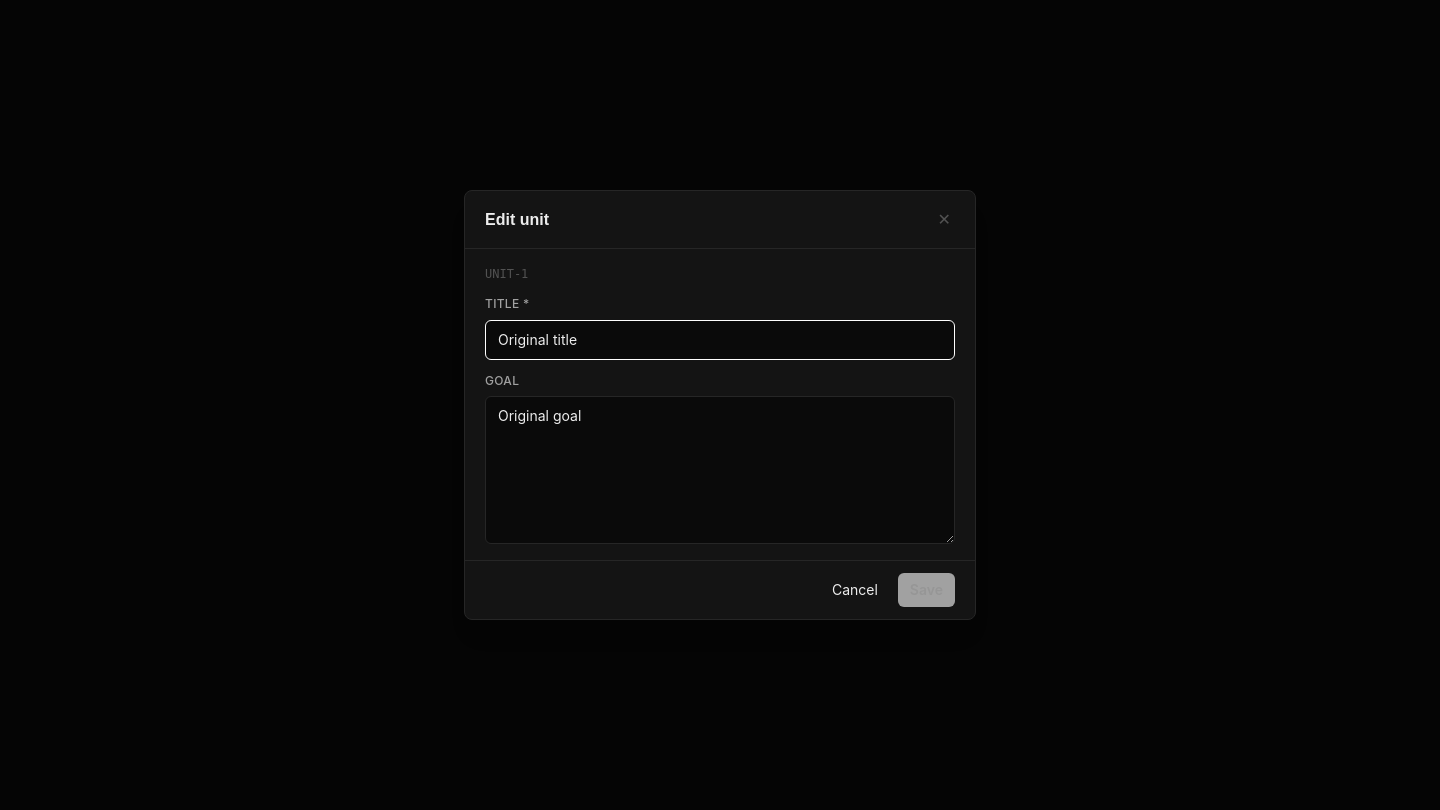
Test: UnitEditModal › surfaces daemon errors
Replace the text in the field with test id "unit-edit-title" with "x": x=720, y=340 [485,320,955,360]
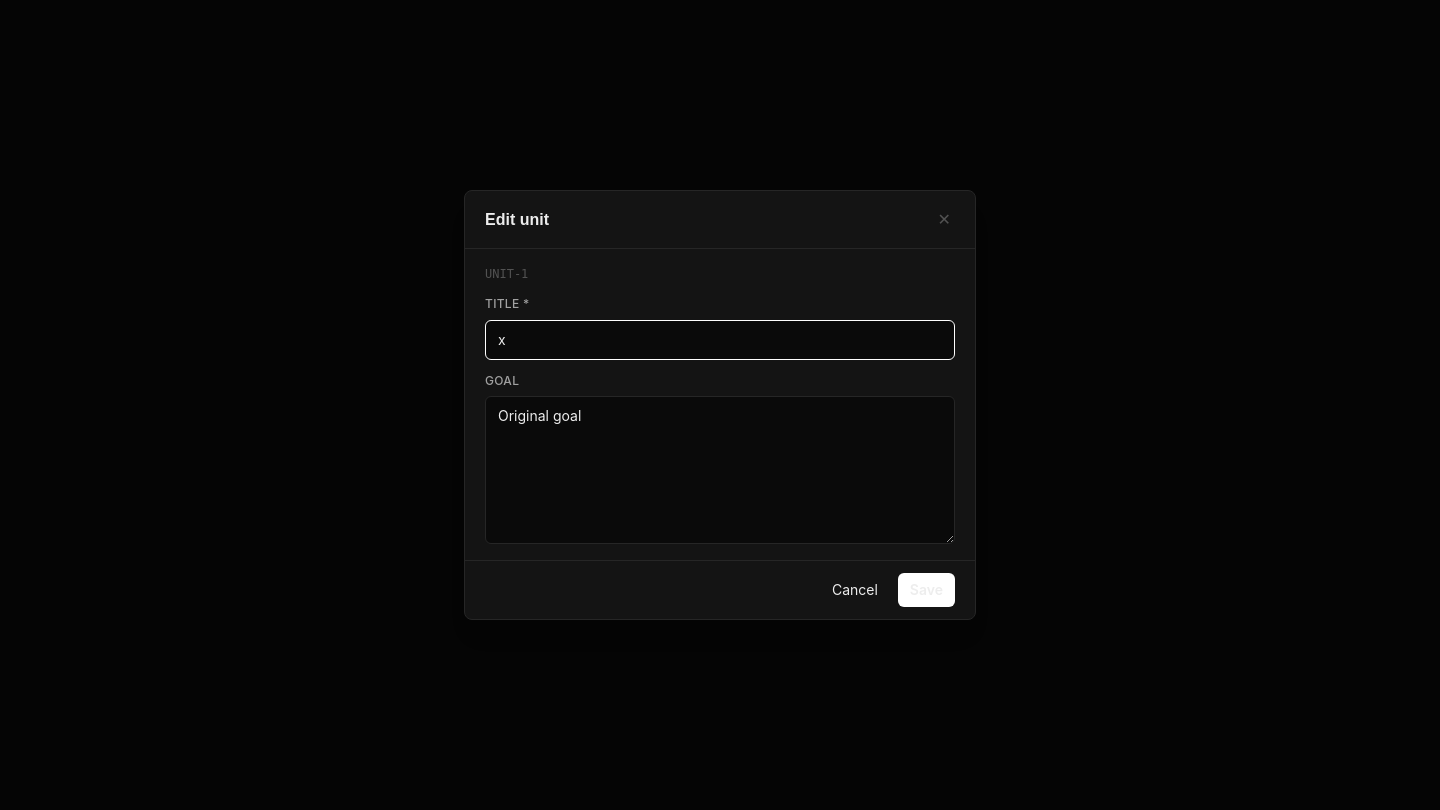
Click the button with test id "unit-edit-submit": x=926, y=590 [898,573,955,607]
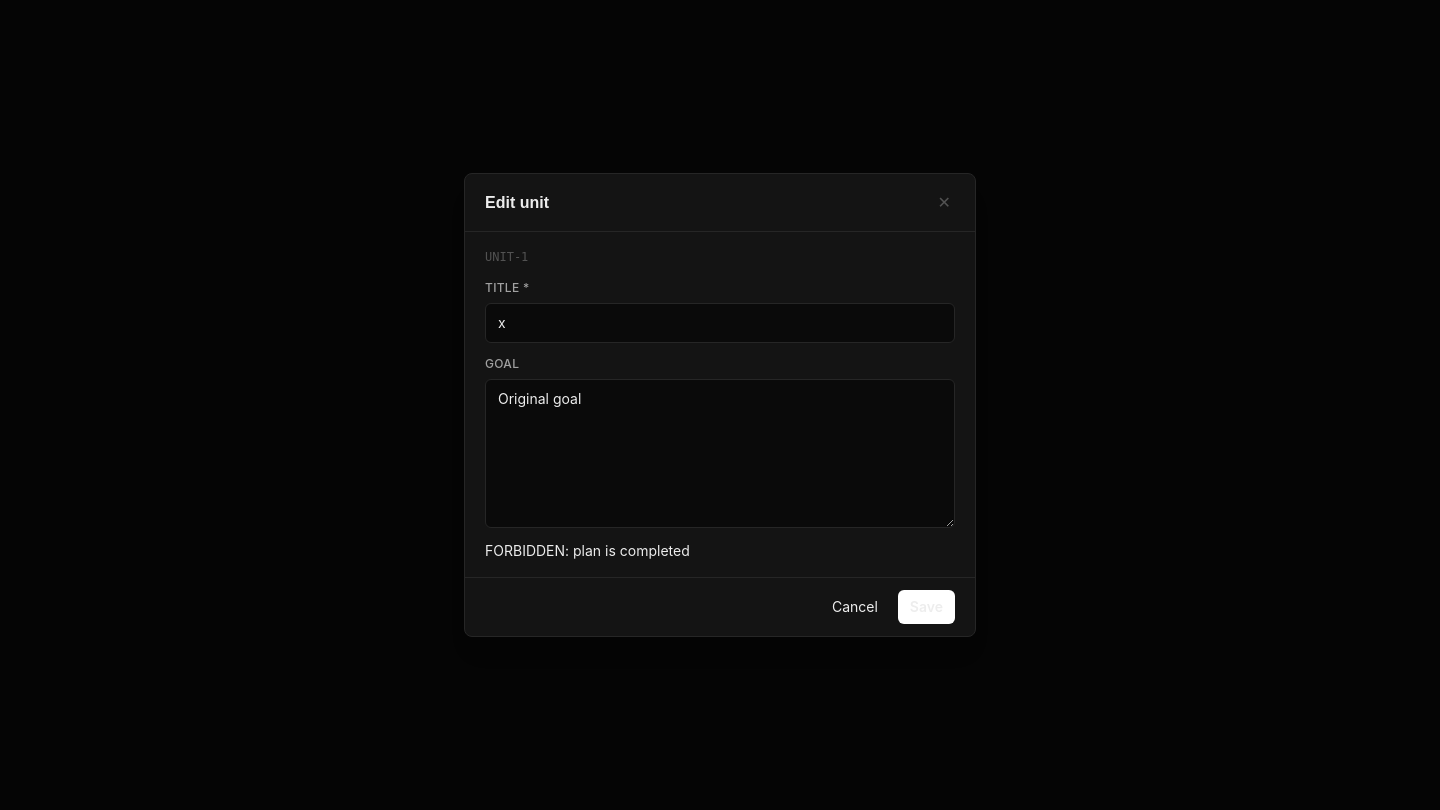
Result: the message with test id "unit-edit-error" reads "FORBIDDEN: plan is completed" at [485,542,690,558]
